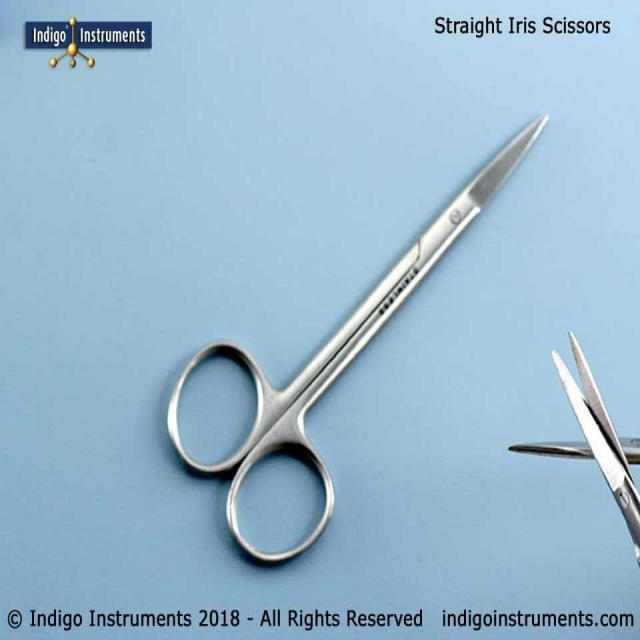scissors: (162, 112, 553, 566), (549, 330, 640, 572)
